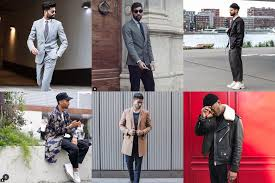asian_male: (129, 92, 146, 109)
